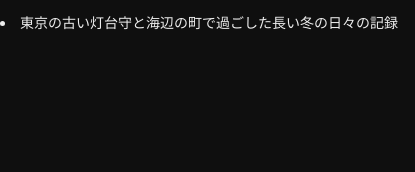
Scenario: keeps a hover tip whose text is still under the pointer when a scroll lands after the pointer
Hover over the text "東京の古い灯台守と海辺の町で過ごした長い冬の日々の記録": point(209, 22) [20,14,398,31]
Wait 500 ms
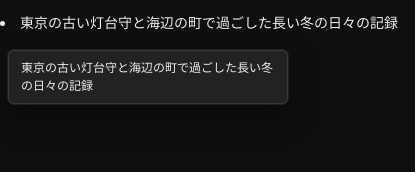
Expected: the text with class "tooltip-bubble" reads "東京の古い灯台守と海辺の町で過ごした長い冬の日々の記録", [21,60,273,93]
